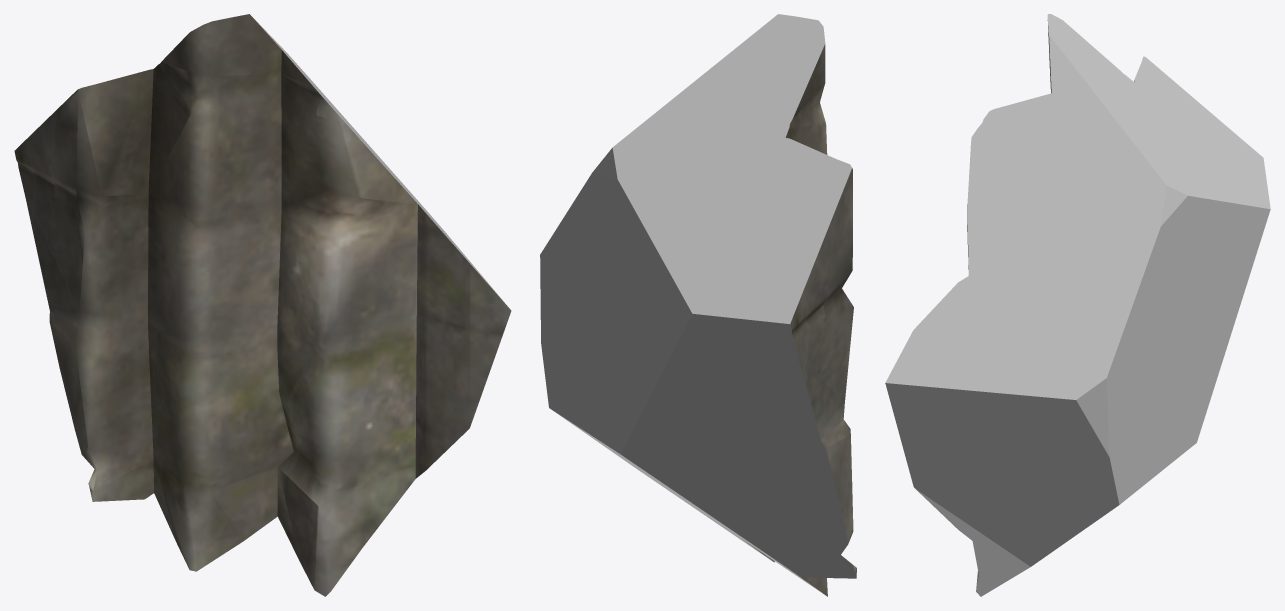
The model's file is ColumnDamage08_26.fbx.
3 views of the same model, side by side, from view 1: azimuth 30°, elevation 25°; view 2: azimuth 150°, elevation 25°; view 3: azimuth 270°, elevation 25° (orthographic). The views are drawn at different scales.
Visible parts, largest first — view 1: ColumnDamage08_DM.026; view 2: ColumnDamage08_DM.026; view 3: ColumnDamage08_DM.026.
Part boxes in pixels (bbox=[...]): ColumnDamage08_DM.026: bbox=[14, 14, 511, 596]; ColumnDamage08_DM.026: bbox=[540, 14, 856, 596]; ColumnDamage08_DM.026: bbox=[885, 14, 1270, 596].
Bounding box in the file's own units: 141 × 231 × 148.
